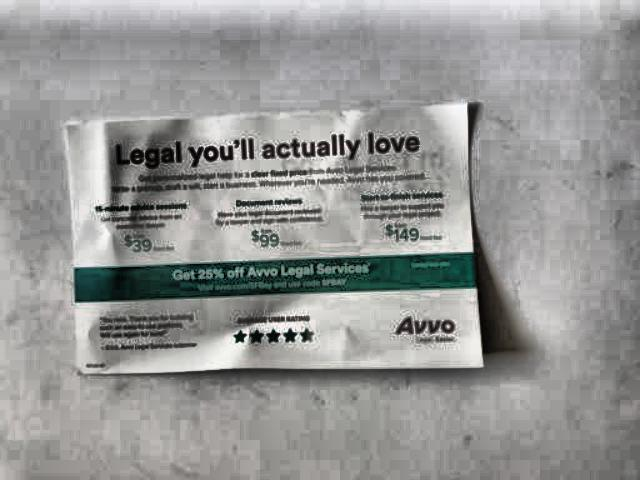Paper: (63, 103, 485, 374)
